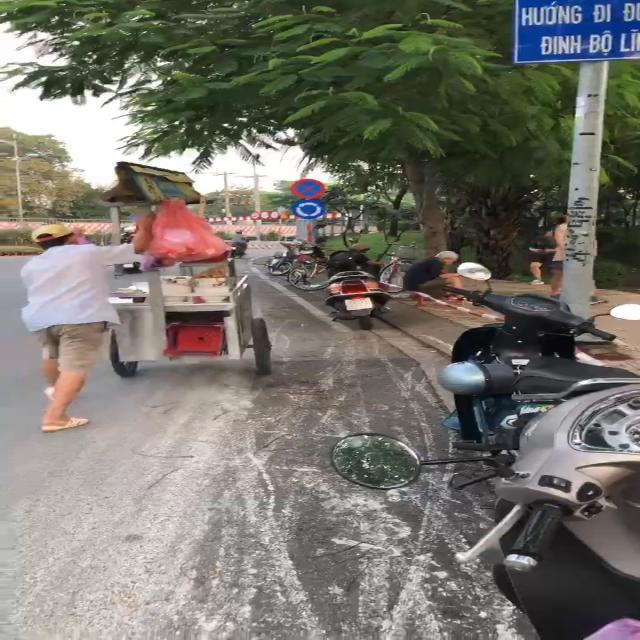Bien bao noi giao nhau chay theo vong xuyen: (289, 199, 333, 221)
